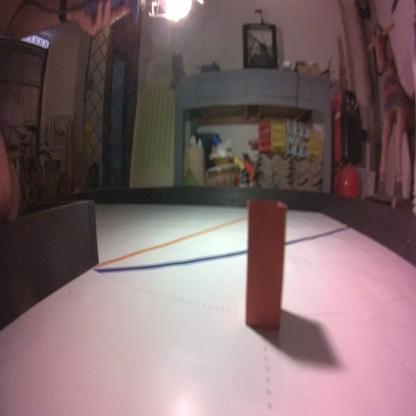red: (242, 195, 288, 339)
